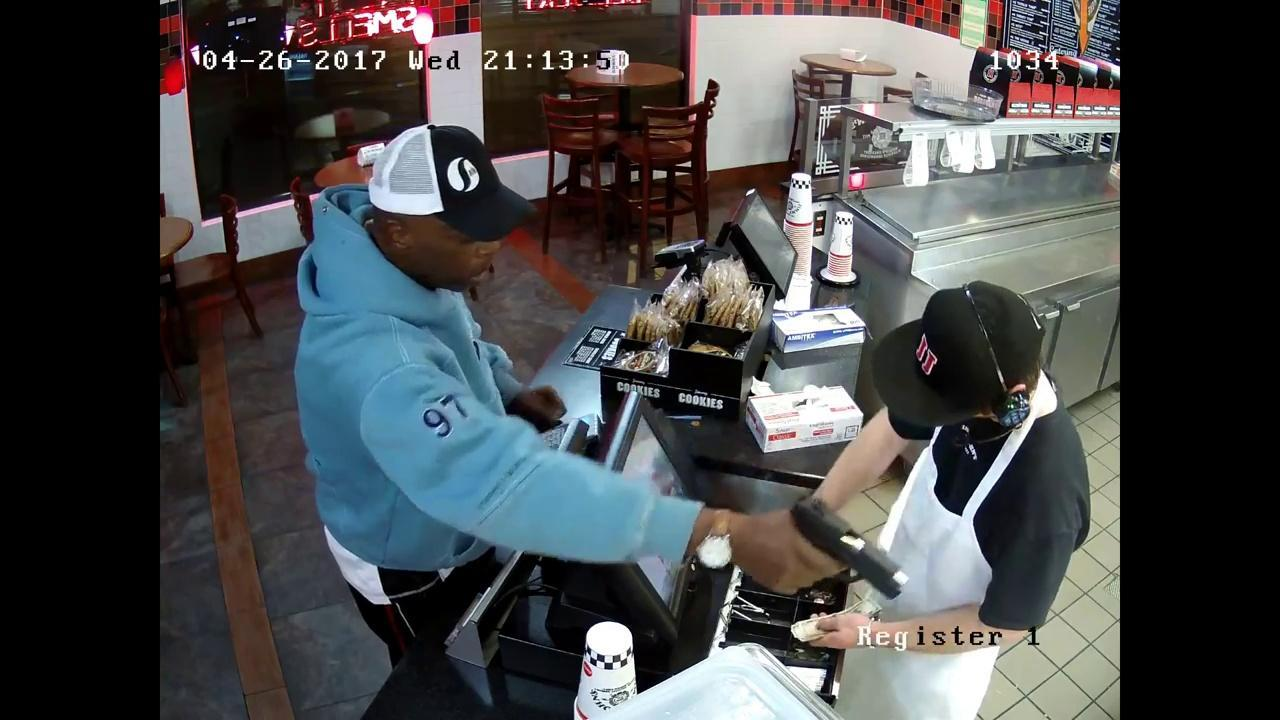Guns perspective: (767, 479, 928, 615)
